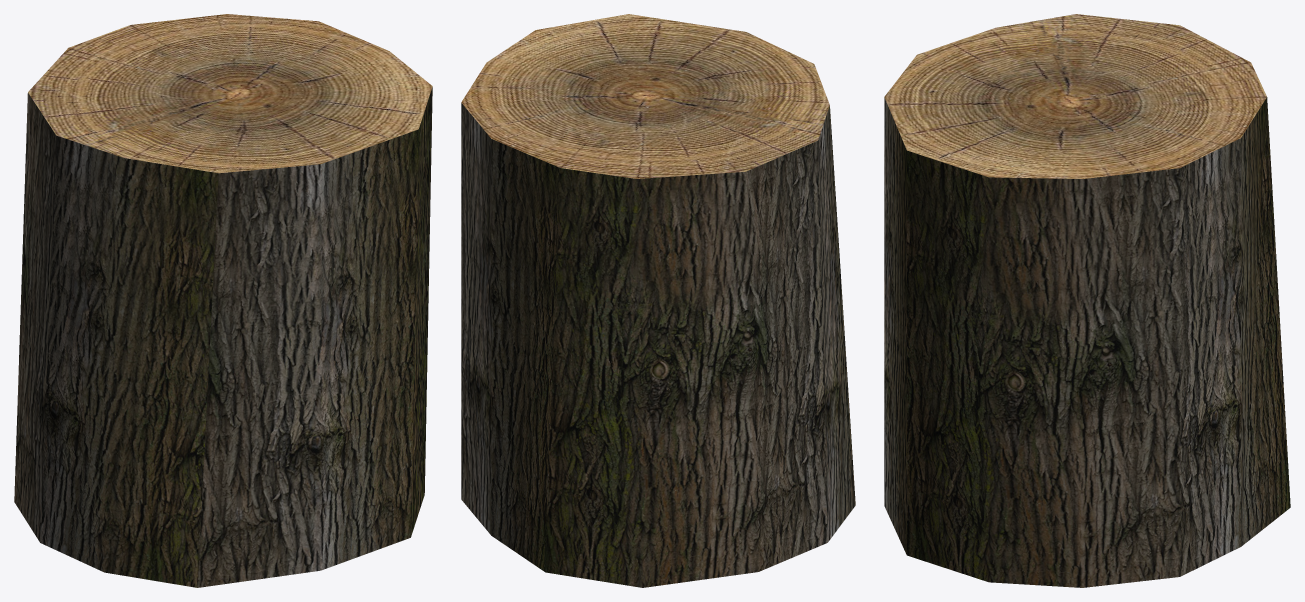
The model's file is LOG_SEAT_1.fbx.
3 views of the same model, side by side, from view 1: azimuth 30°, elevation 25°; view 2: azimuth 150°, elevation 25°; view 3: azimuth 270°, elevation 25° (orthographic). The views are drawn at different scales.
Visible parts, largest first — view 1: Cylinder; view 2: Cylinder; view 3: Cylinder.
Part boxes in pixels (box(x1,y1,x2,y2)): Cylinder: box(14, 14, 432, 587); Cylinder: box(461, 14, 855, 587); Cylinder: box(884, 14, 1290, 587).
Bounding box in the file's own units: 52.18 × 58 × 52.25.
2 materials, 2 textured.
